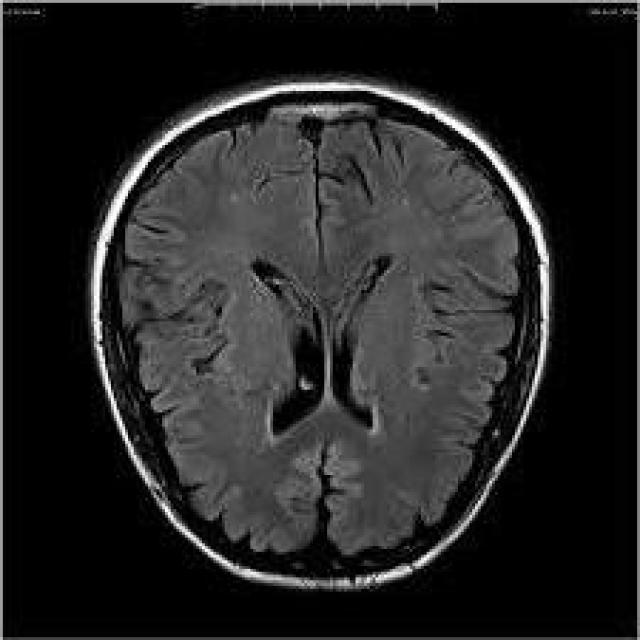notumor: (91, 82, 549, 589)
